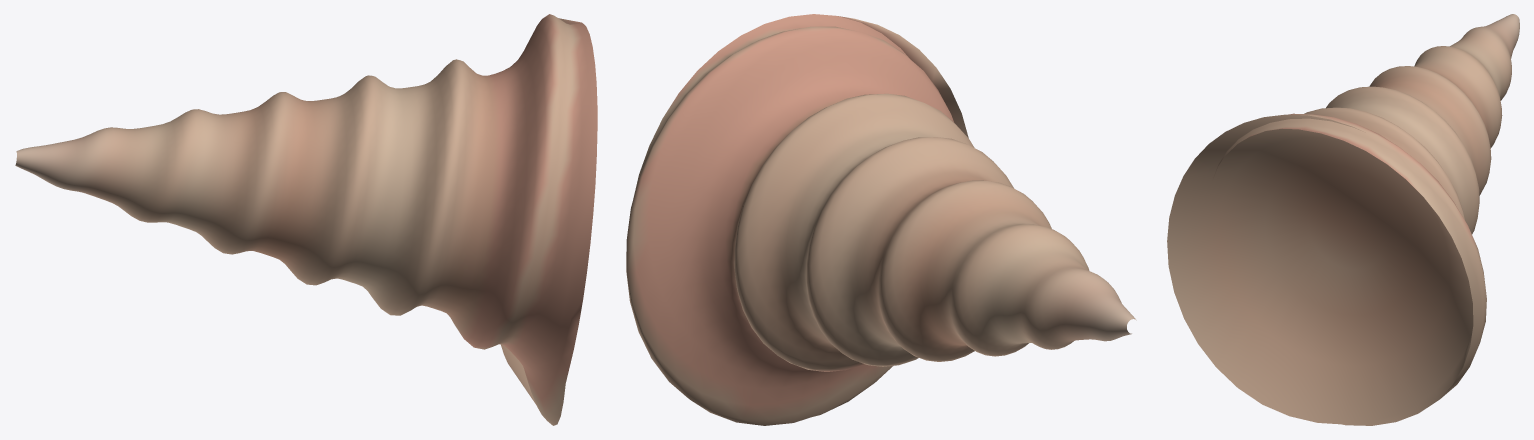
The model's file is prop-shell-spiral.glb.
The picture shows the model from 3 angles, left to right: view 1: azimuth 30°, elevation 25°; view 2: azimuth 150°, elevation 25°; view 3: azimuth 270°, elevation 25°; orthographic projection. The views are drawn at different scales.
Visible parts, largest first — view 1: body; view 2: body; view 3: body.
Part boxes in pixels (x1,y1,x2,y2): body: (15,14,597,425); body: (626,14,1136,425); body: (1167,14,1519,425).
Size of the model in its own units: 0.0353 by 0.0243 by 0.0246.
